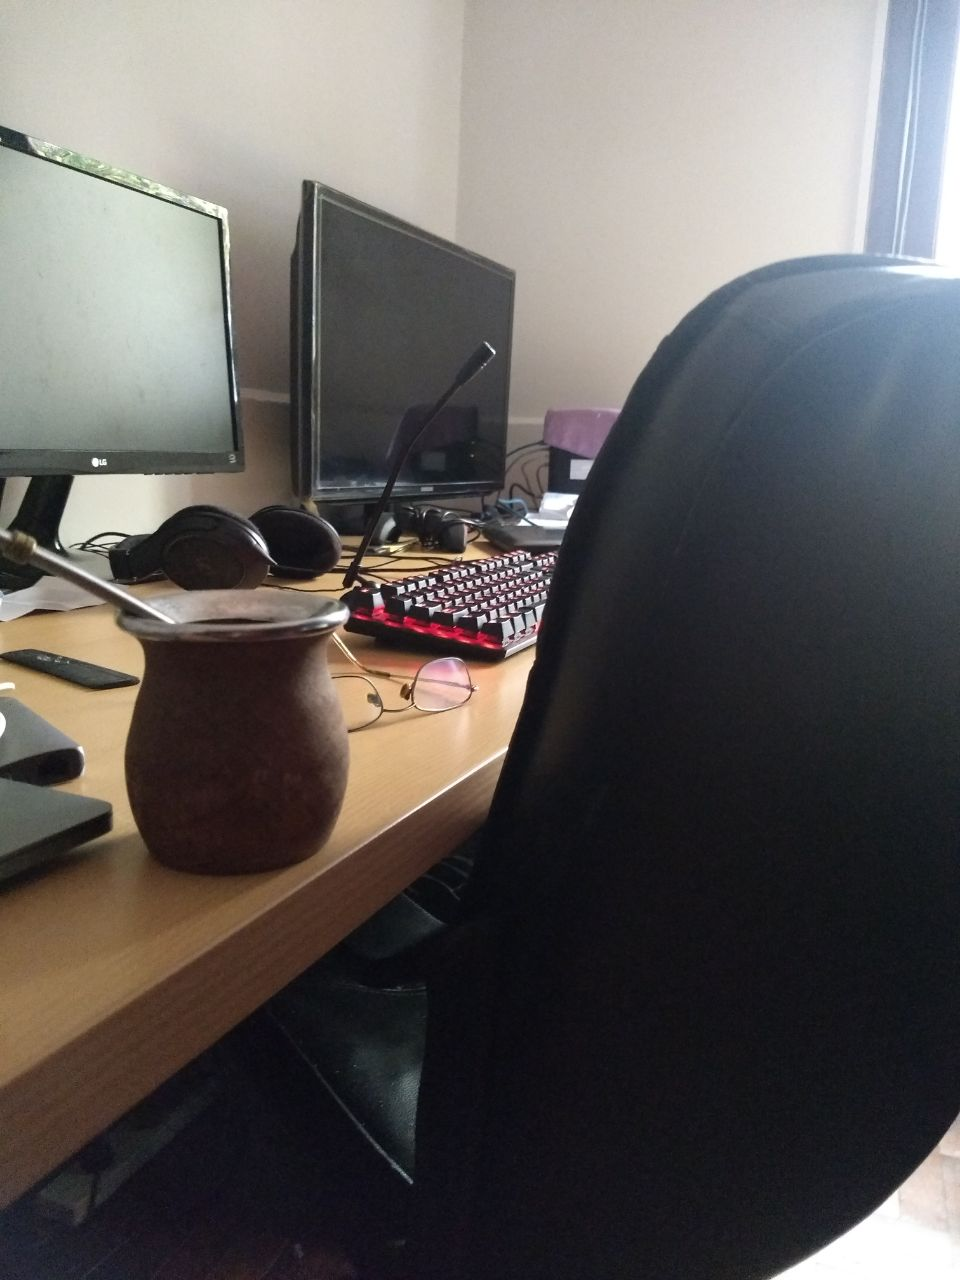madera: (1, 529, 354, 873)
mate: (1, 531, 354, 875)
